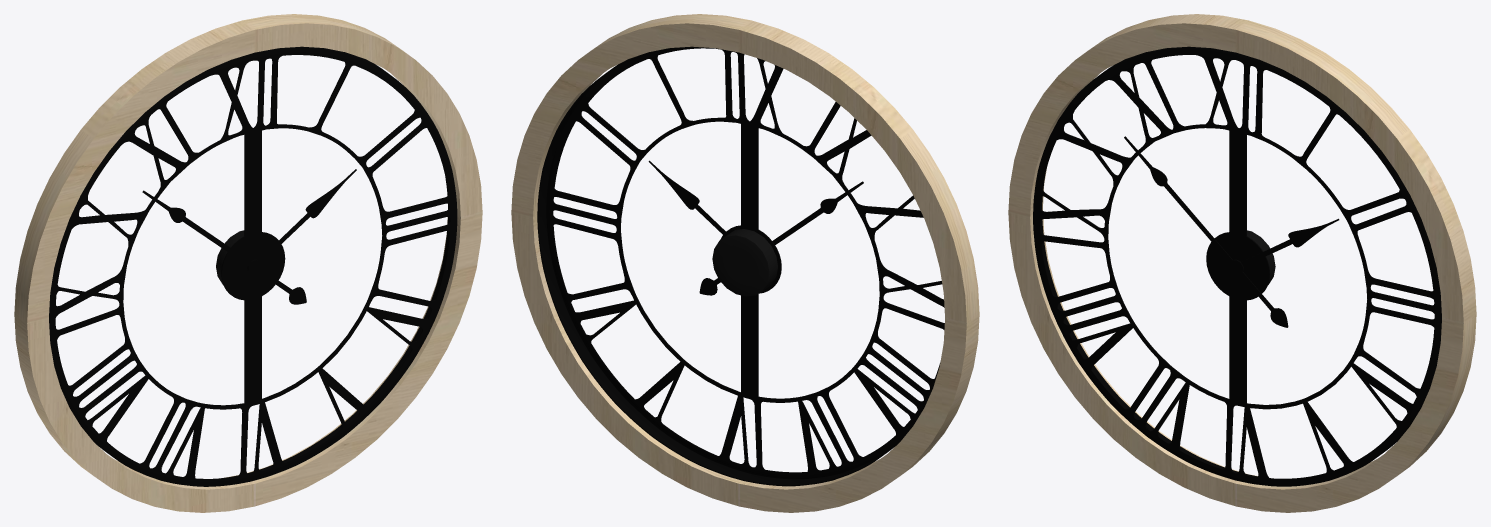
Rendered from CLOCK.fbx.
The picture shows the model from 3 angles, left to right: view 1: azimuth 30°, elevation 25°; view 2: azimuth 150°, elevation 25°; view 3: azimuth 330°, elevation 25°; orthographic projection.
Visible parts, largest first — view 1: Object003, Shape1, Object002, Object001; view 2: Object003, Shape1, Cylinder002, Object002, Object001; view 3: Object003, Shape1, Object002, Object001.
Boxes of the visible parts, <box> form: Object003: <box>14,14,482,512</box>; Shape1: <box>49,46,457,486</box>; Object002: <box>142,190,306,304</box>; Object001: <box>247,169,356,272</box>; Object003: <box>511,14,979,512</box>; Shape1: <box>537,46,944,486</box>; Cylinder002: <box>712,229,777,296</box>; Object002: <box>699,181,863,295</box>; Object001: <box>648,160,725,234</box>; Object003: <box>1008,14,1476,512</box>; Shape1: <box>1033,46,1441,486</box>; Object002: <box>1124,136,1288,327</box>; Object001: <box>1233,218,1339,271</box>.
Size of the model in its own units: 20.56 by 20.56 by 1.
Materials: 3 (1 with a texture image).
